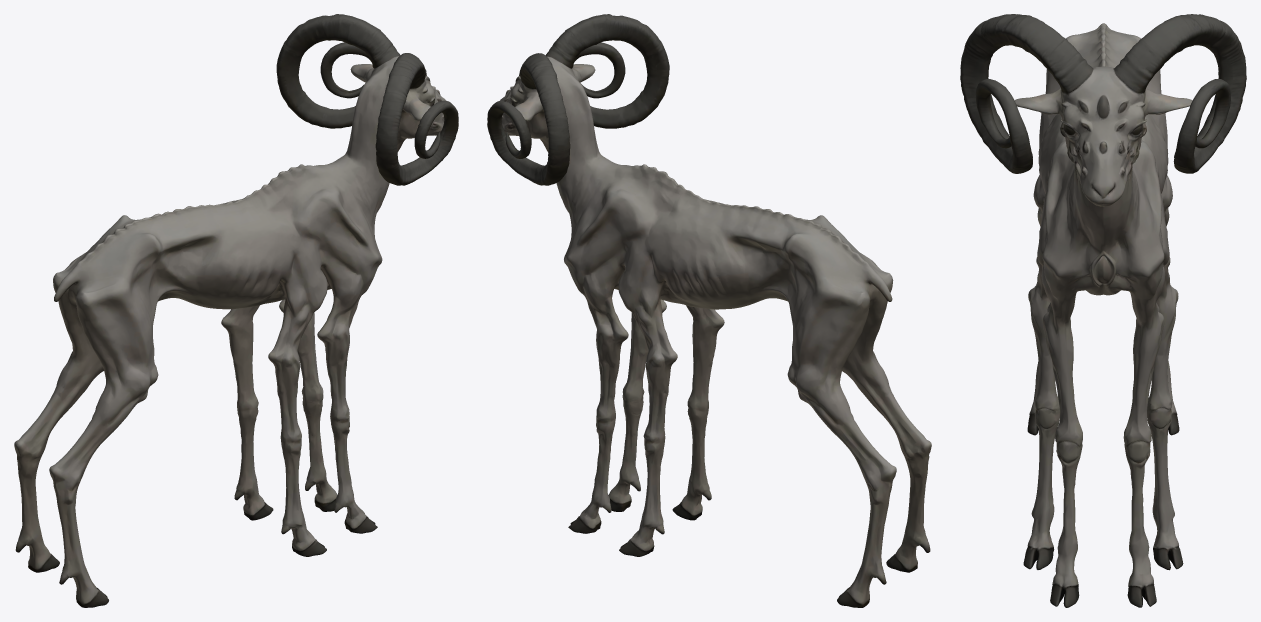
File: creature_adult.glb
3 renders of one model, left to right at view 1: azimuth 30°, elevation 25°; view 2: azimuth 150°, elevation 25°; view 3: azimuth 270°, elevation 25°, orthographic. The views are drawn at different scales.
Visible parts, largest first — view 1: tripo_node_d1833209-1d15-4e6c-ae2f-4fc0e92361c1; view 2: tripo_node_d1833209-1d15-4e6c-ae2f-4fc0e92361c1; view 3: tripo_node_d1833209-1d15-4e6c-ae2f-4fc0e92361c1.
Boxes of the visible parts, bbox=[...] form: tripo_node_d1833209-1d15-4e6c-ae2f-4fc0e92361c1: bbox=[14, 14, 458, 607]; tripo_node_d1833209-1d15-4e6c-ae2f-4fc0e92361c1: bbox=[487, 14, 931, 607]; tripo_node_d1833209-1d15-4e6c-ae2f-4fc0e92361c1: bbox=[960, 14, 1246, 607].
Bounding box in the file's own units: 0.9315 × 1 × 0.4334.
Materials: 1 (1 with a texture image).
